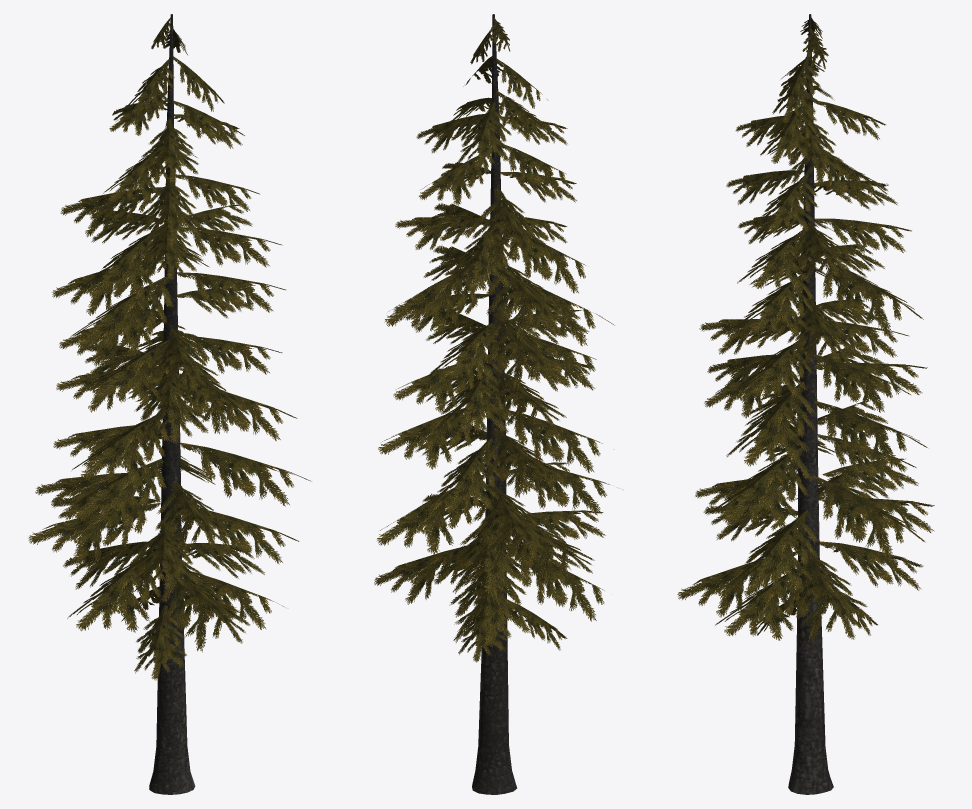
The model's file is pine_tree_n_3_3.glb.
The picture shows the model from 3 angles, left to right: view 1: azimuth 30°, elevation 25°; view 2: azimuth 150°, elevation 25°; view 3: azimuth 270°, elevation 25°; orthographic projection.
Parts seen in each view (by area): view 1: pine_tree_n_3_3_branches, pine_tree_n_3_3; view 2: pine_tree_n_3_3_branches, pine_tree_n_3_3; view 3: pine_tree_n_3_3_branches, pine_tree_n_3_3.
Part boxes in pixels (box(x1,y1,x2,y2)): pine_tree_n_3_3_branches: box(28, 17, 311, 680); pine_tree_n_3_3: box(149, 14, 195, 794); pine_tree_n_3_3_branches: box(374, 17, 614, 662); pine_tree_n_3_3: box(472, 14, 517, 794); pine_tree_n_3_3_branches: box(677, 17, 934, 643); pine_tree_n_3_3: box(788, 14, 833, 794).
Size of the model in its own units: 2.03 by 5.73 by 1.92.
2 materials, 2 textured.
